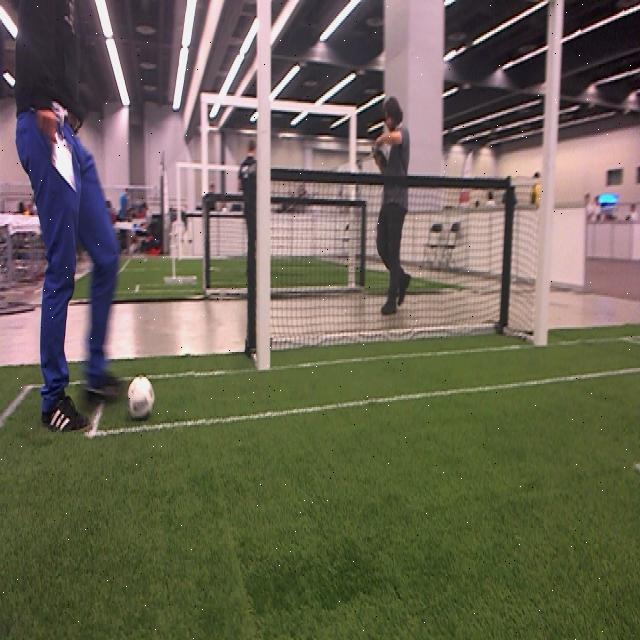ball: (127, 373, 155, 418)
goalpost: (532, 2, 565, 348), (256, 2, 273, 375)
